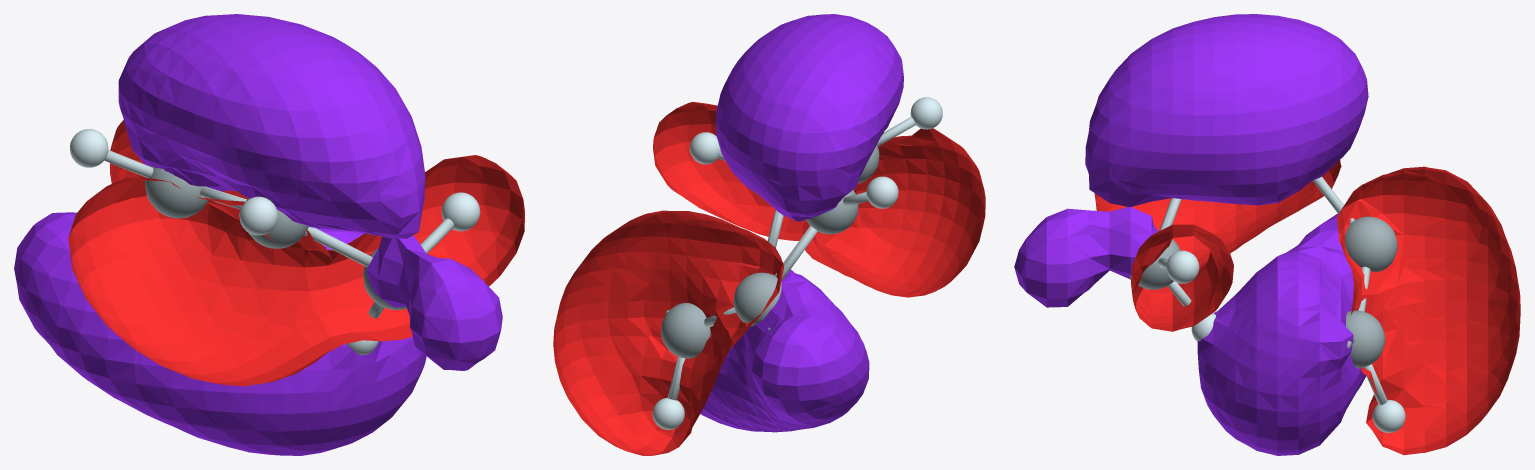
The picture shows the model from 3 angles, left to right: view 1: azimuth 30°, elevation 25°; view 2: azimuth 150°, elevation 25°; view 3: azimuth 270°, elevation 25°; orthographic projection. The views are drawn at different scales.
Visible parts, largest first — view 1: Renderer Node; view 2: Renderer Node; view 3: Renderer Node.
Boxes of the visible parts, box(x1,y1,x2,y2) form: Renderer Node: box(14, 14, 524, 455); Renderer Node: box(553, 14, 985, 455); Renderer Node: box(1014, 14, 1520, 455).
Bounding box in the file's own units: 4.71 × 5.18 × 6.1.
